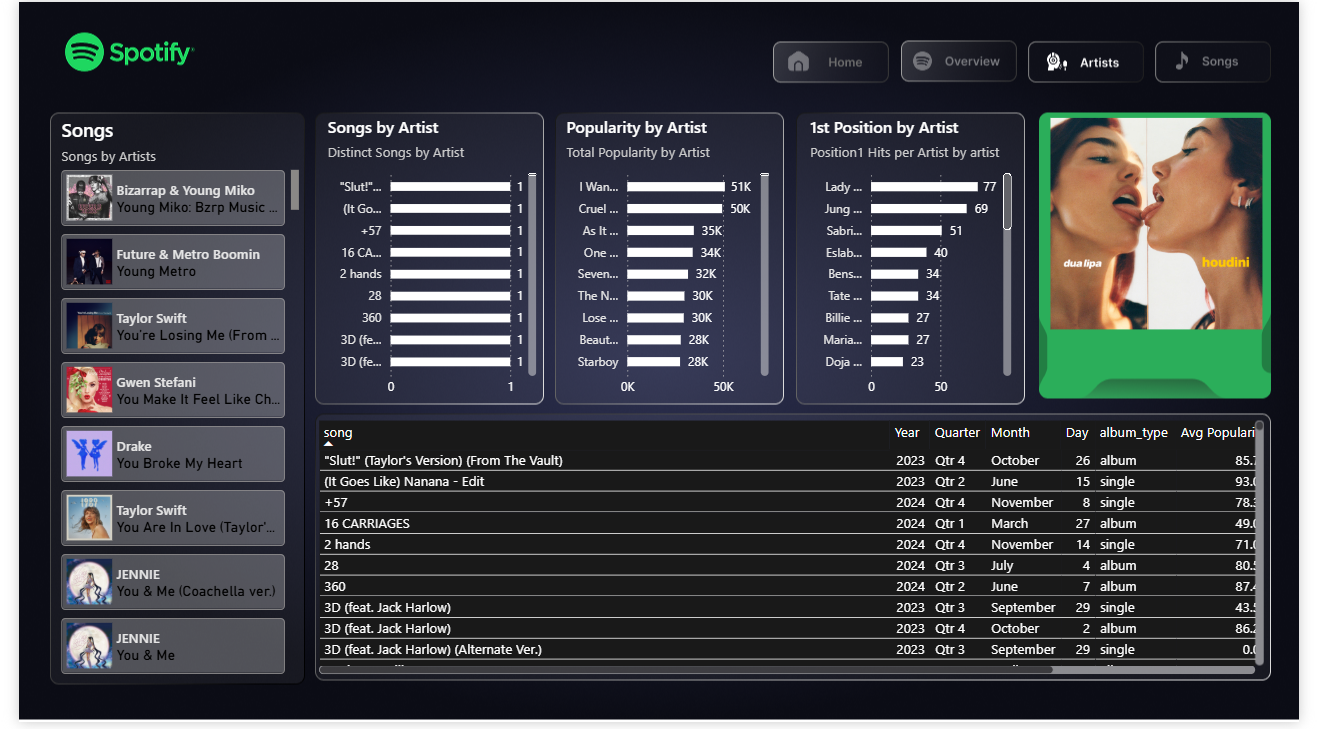

What the dashboard file says about the page in this screenshot:
{"tool":"powerbi","page":{"name":"Artist","canvas":[1280,720],"ordinal":2},"visuals":[{"type":"actionButton","box":[755,38.5,115,40],"z":0},{"type":"actionButton","box":[882.5,38.5,115,40],"z":1000},{"type":"actionButton","box":[1010,38.5,115,40],"z":2000},{"type":"actionButton","box":[1135,38.5,115,40],"z":3000},{"type":"clusteredBarChart","title":"Songs by Artist","fields":{"Y":["_Measure.Distinct Songs"],"Category":["Top-50-World.song"]},"box":[303.8,113.8,218.8,288.8],"z":6001},{"type":"clusteredBarChart","title":"Popularity by Artist","fields":{"Y":["Sum(Top-50-World.popularity)"],"Category":["Top-50-World.song"]},"box":[542.5,113.8,212.5,288.8],"z":6002},{"type":"clusteredBarChart","title":"1st Position by Artist","fields":{"Y":["_Measure.Position1 Hits per Artist"],"Category":["Top-50-World.artist"]},"box":[786.2,113.8,211.2,288.8],"z":6003},{"type":"cardVisual","fields":{"Data":["Min(Top-50-World.album_cover_url)"]},"box":[996.2,98.8,283.8,246.2],"z":6004},{"type":"advancedSlicerVisual","title":"Songs","fields":{"Values":["Top-50-World.song"],"Label":["Min(Top-50-World.album_cover_url)"]},"box":[37.5,115,247.5,562.5],"z":6005},{"type":"tableEx","fields":{"Values":["Top-50-World.song","Top-50-World.release_date.Variation.Date Hierarchy.Year","Top-50-World.release_date.Variation.Date Hierarchy.Quarter","Top-50-World.release_date.Variation.Date Hierarchy.Month","Top-50-World.release_date.Variation.Date Hierarchy.Day","Top-50-World.album_type","_Measure.Avg Popularity","_Measure.Max Popularity","_Measure.Avg Duration Minutes"]},"box":[293.8,413.8,956.2,263.8],"z":6006}]}

Visuals, with their boxes in screenshot pixels (x1, y1, x2, y2), scaled from the page's 1280x720 canvas onto the 1321x729 screenshot:
actionButton: [x1=779, y1=39, x2=898, y2=79]
actionButton: [x1=911, y1=39, x2=1029, y2=79]
actionButton: [x1=1042, y1=39, x2=1161, y2=79]
actionButton: [x1=1171, y1=39, x2=1290, y2=79]
"Songs by Artist" clusteredBarChart: [x1=314, y1=115, x2=539, y2=408]
"Popularity by Artist" clusteredBarChart: [x1=560, y1=115, x2=779, y2=408]
"1st Position by Artist" clusteredBarChart: [x1=811, y1=115, x2=1029, y2=408]
cardVisual - Min(Top-50-World.album_cover_url): [x1=1028, y1=100, x2=1320, y2=349]
"Songs" advancedSlicerVisual: [x1=39, y1=116, x2=294, y2=686]
tableEx - Top-50-World.song x Top-50-World.release_date.Variation.Date Hierarchy.Year: [x1=303, y1=419, x2=1290, y2=686]
